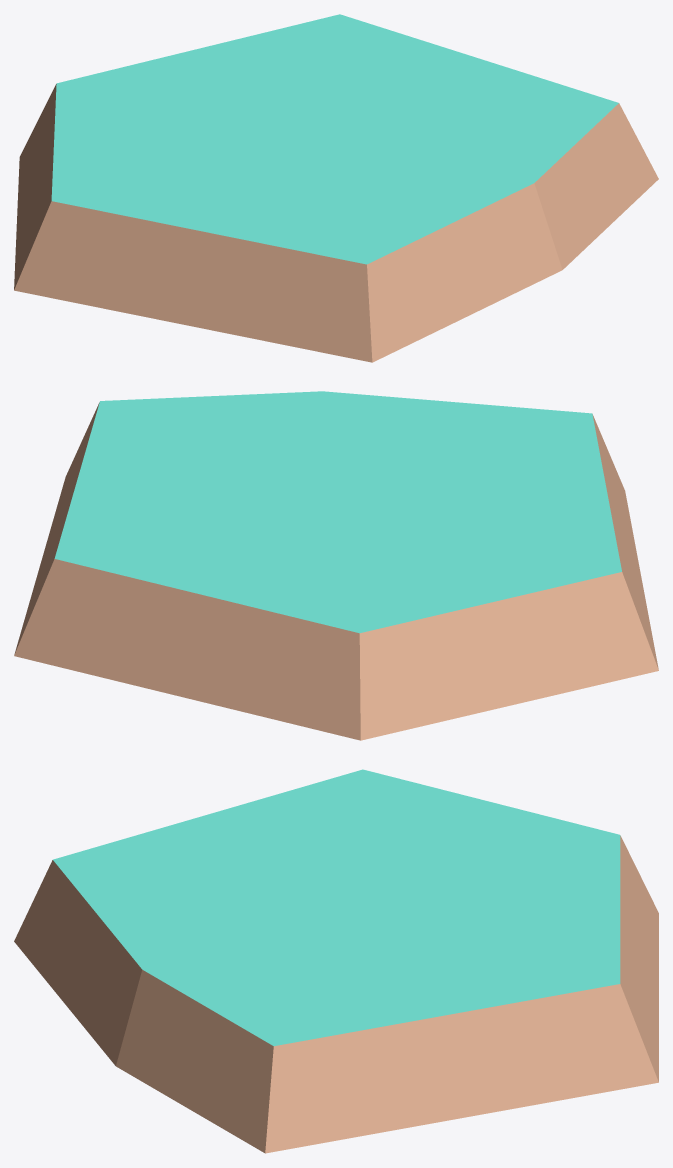
Rendered from rock_smallFlatA.glb.
3 renders of one model, top to bottom at view 1: azimuth 30°, elevation 25°; view 2: azimuth 150°, elevation 25°; view 3: azimuth 270°, elevation 25°, orthographic. The views are drawn at different scales.
Parts seen in each view (by area): view 1: grass, dirt; view 2: grass, dirt; view 3: grass, dirt.
Part boxes in pixels (x1,y1,x2,y2): grass: (51, 14, 618, 264); dirt: (14, 84, 658, 362); grass: (54, 391, 621, 633); dirt: (14, 402, 658, 740); grass: (53, 769, 620, 1046); dirt: (14, 835, 658, 1153).
Size of the model in its own units: 0.4958 by 0.0649 by 0.4296.
